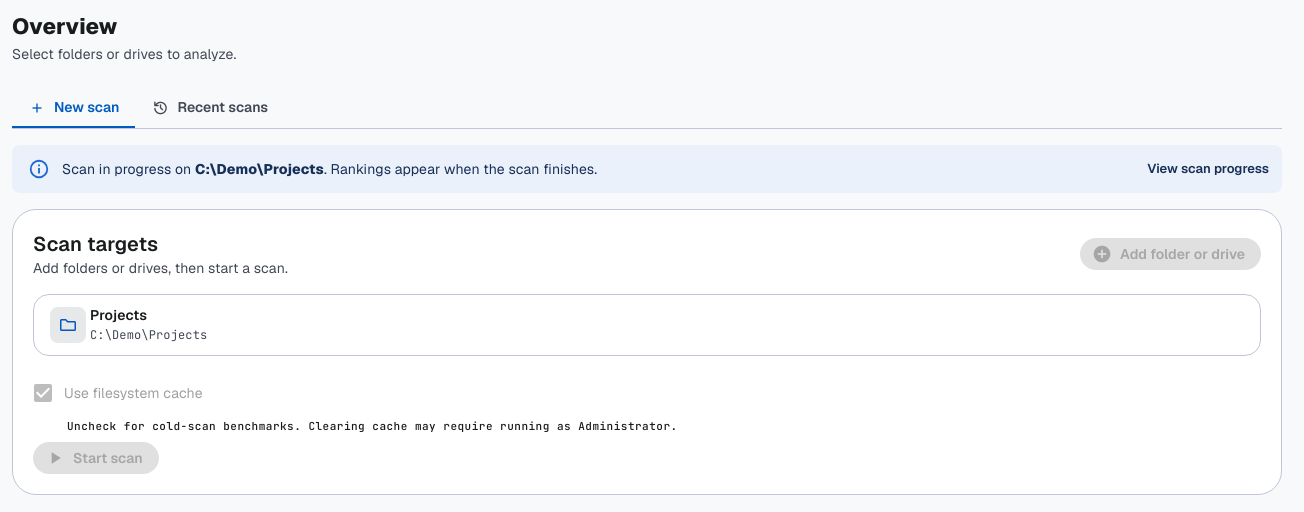
Test: OverviewView › returns to scan progress from the folder picker during an active scan
expect the heading "Overview" is shown: met, box [12,12,118,40]
Step 1. Click the button "View scan progress" → point(1208, 169), box [1142,155,1274,183]
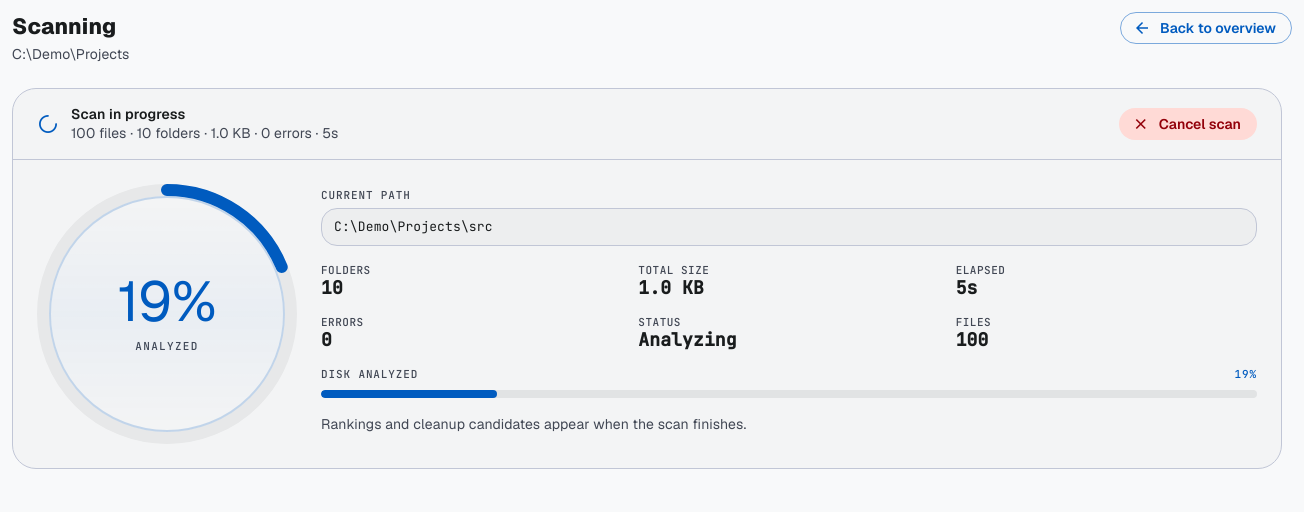
expect the heading "Scanning" is shown: met, box [12,12,130,40]
expect the element labelled "Scan in progress" is shown: met
